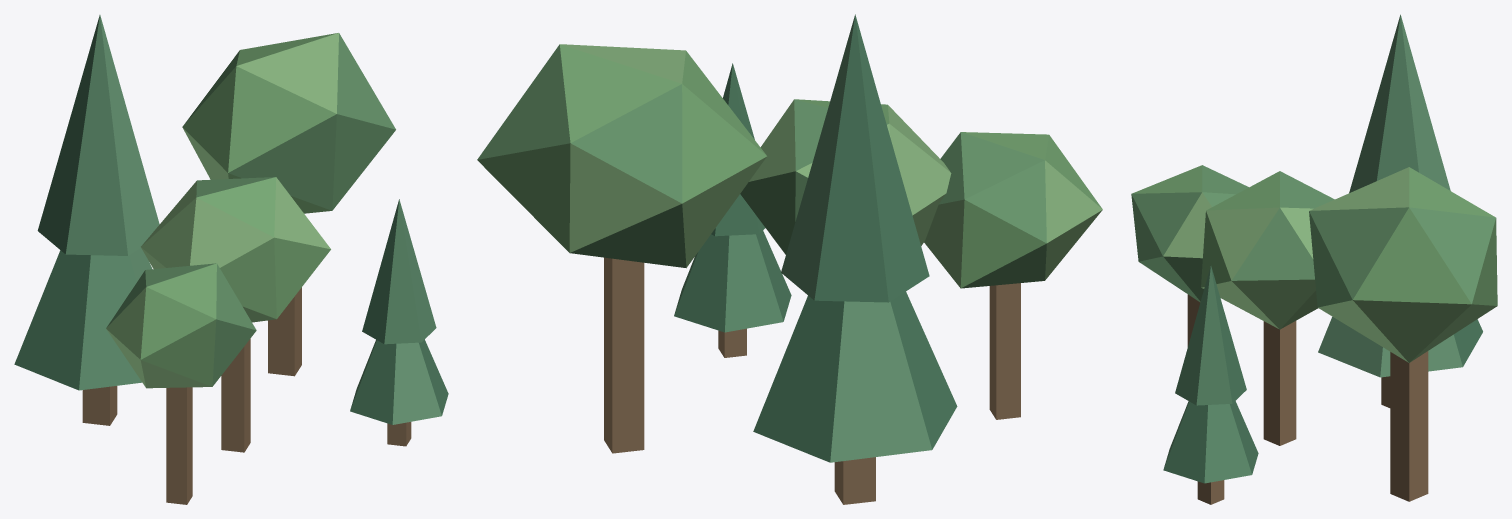
Rendered from forest_c.glb.
3 views of the same model, side by side, from view 1: azimuth 30°, elevation 25°; view 2: azimuth 150°, elevation 25°; view 3: azimuth 270°, elevation 25° (orthographic). The views are drawn at different scales.
Visible parts, largest first — view 1: forest_c; view 2: forest_c; view 3: forest_c.
Boxes of the visible parts, box(x1,y1,x2,y2) form: forest_c: box(14, 15, 448, 504); forest_c: box(477, 14, 1102, 504); forest_c: box(1131, 14, 1497, 504).
Bounding box in the file's own units: 0.9416 × 1 × 0.8501.
